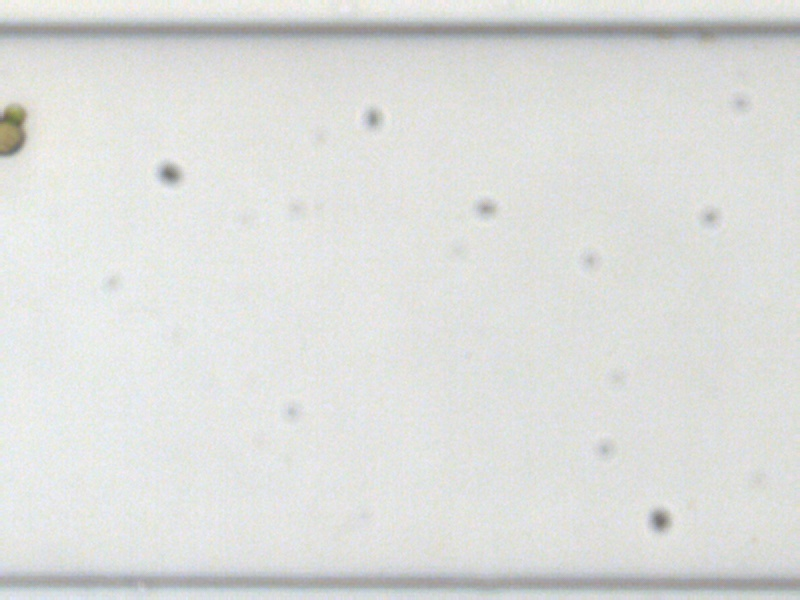Chlorella: (1, 105, 23, 122)
Effrenium: (0, 116, 24, 154)
